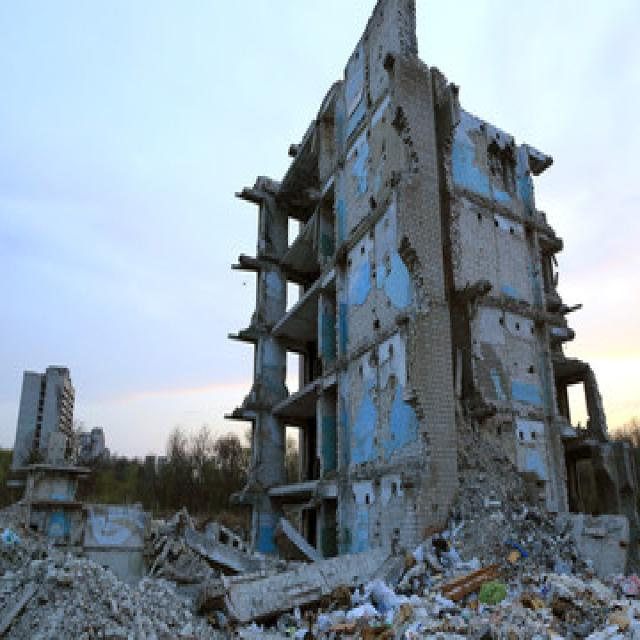Destroyed_building: (200, 1, 640, 640)
